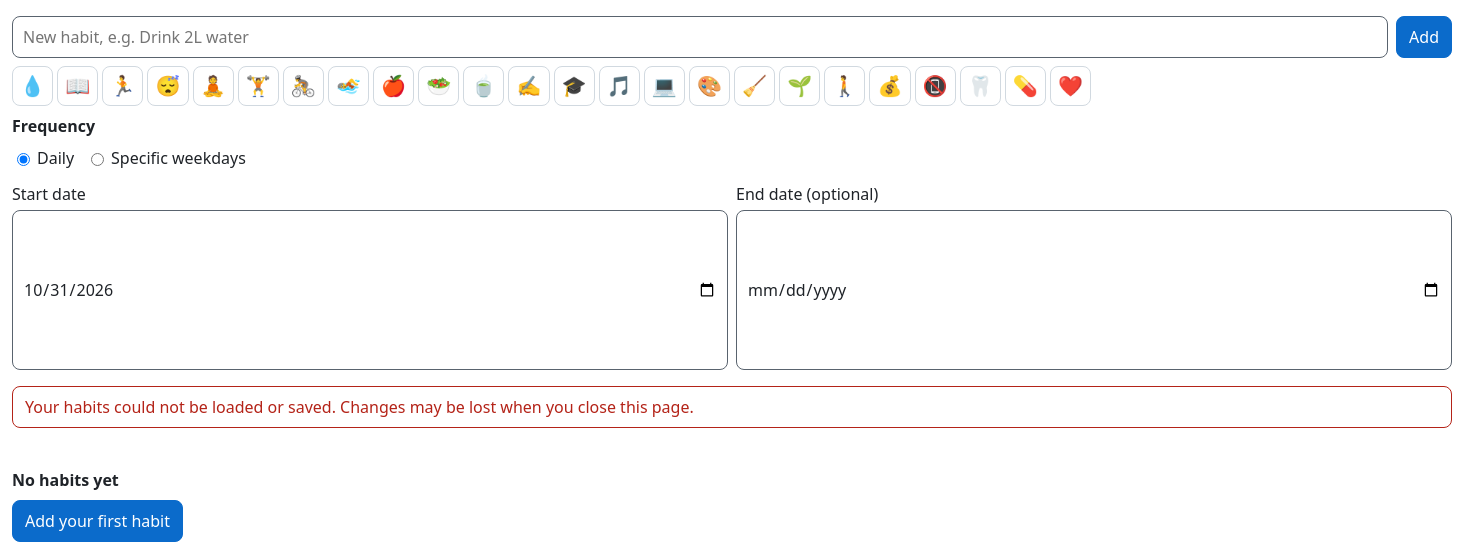
Scenario: HabitList › AC14 (#1): a malformed entry shows an error, an empty list and no overwrite until save
Expected: the message is shown, 12,386 -> 1452,428
Type "Read" into the field named "New habit name" at {"x": 700, "y": 37}, box 12,16 -> 1388,58
Then press Enter
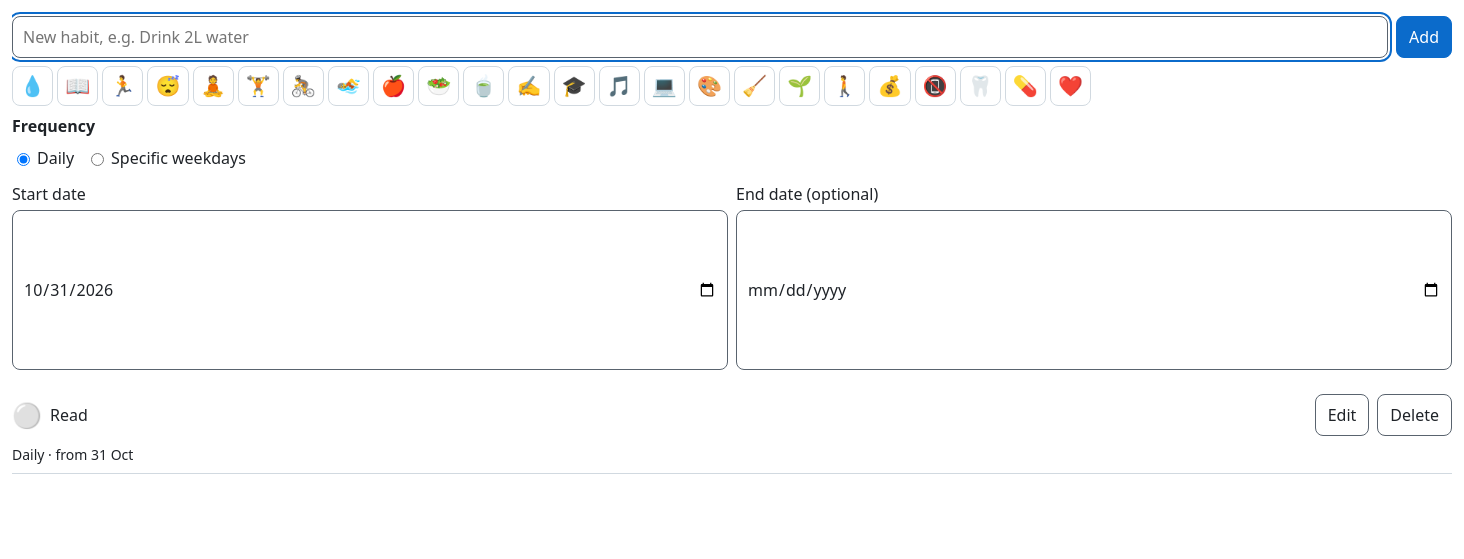
Now the text "Read" is shown, box 50,404 -> 88,426
